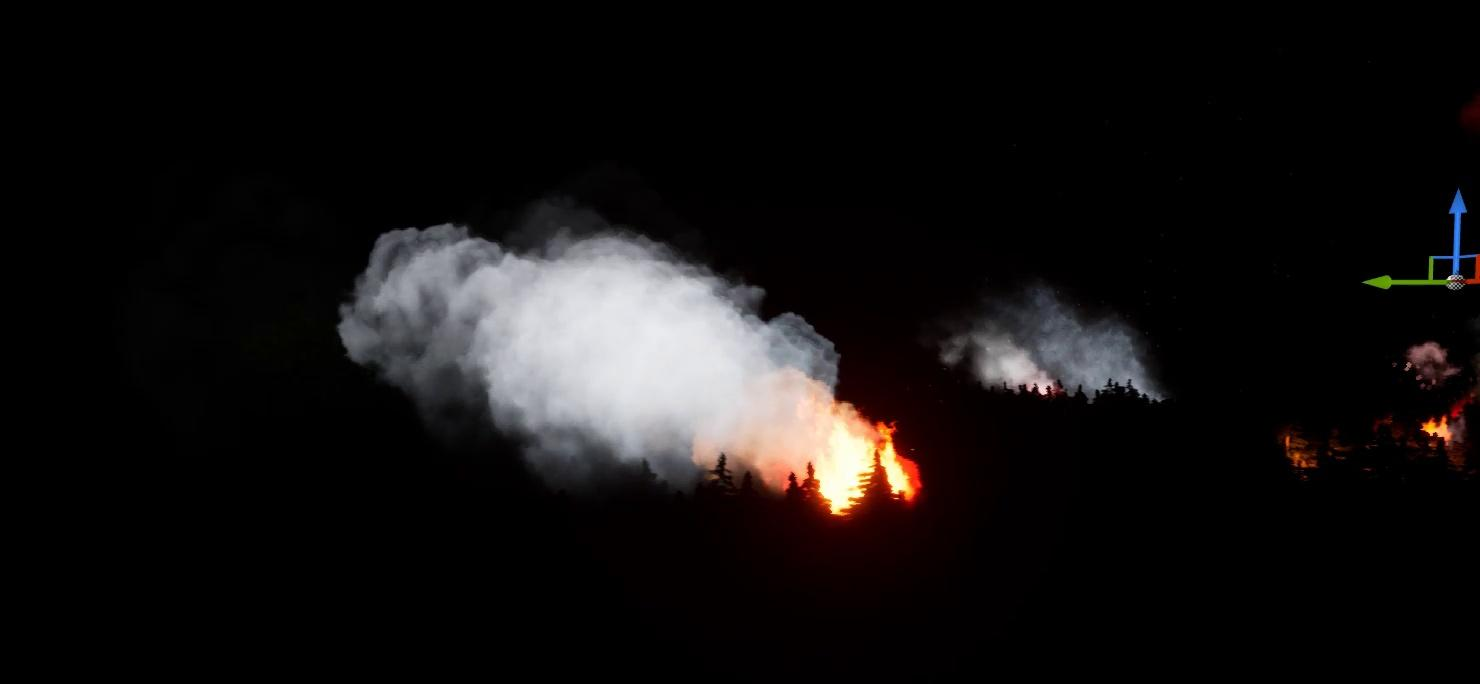fire: (788, 401, 918, 519), (1408, 401, 1459, 447)
smoke: (334, 209, 857, 481), (939, 286, 1167, 404)
